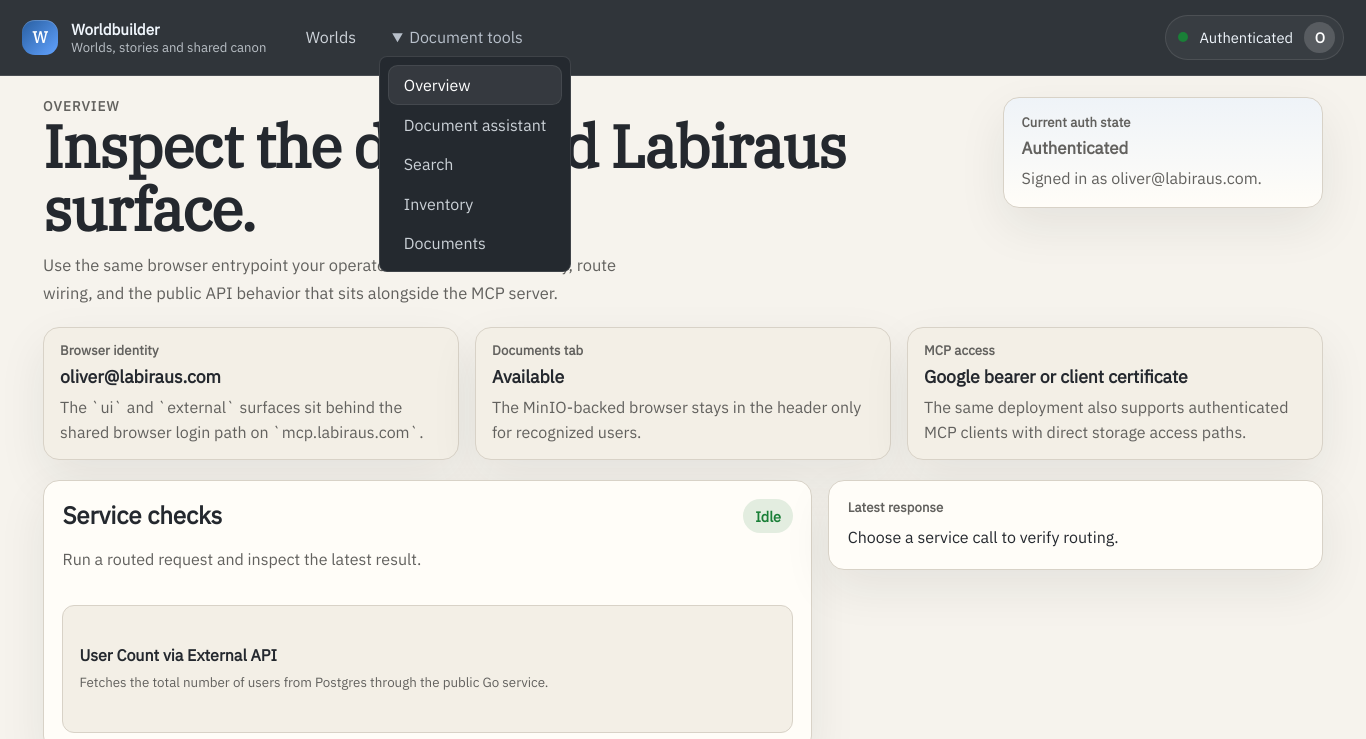
Scenario: App › loads durable lifecycle history for a search result
Click the button "Search".
click(475, 164)  # box [388, 144, 562, 184]
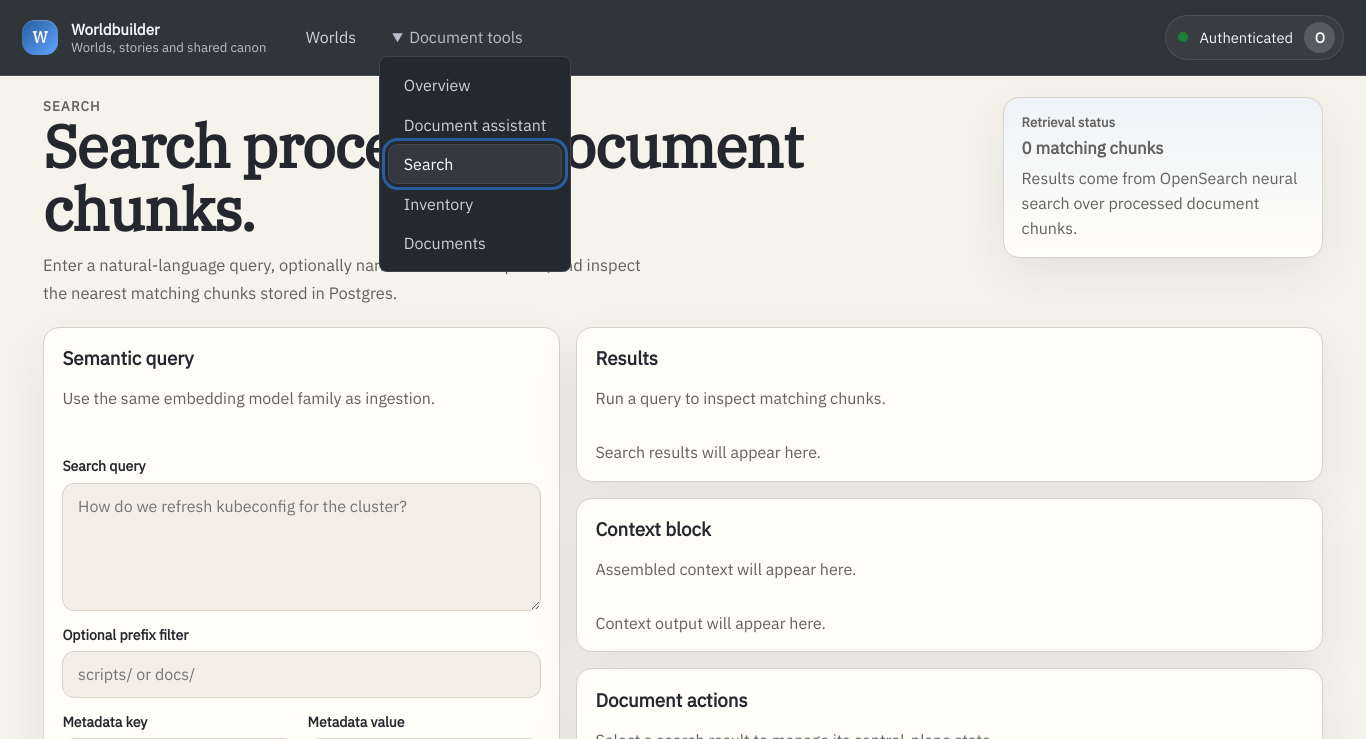
Type "processing status" into the text box labelled "Search query".
click(302, 547); type("processing status")  # box [62, 483, 541, 611]
(page scrolled)
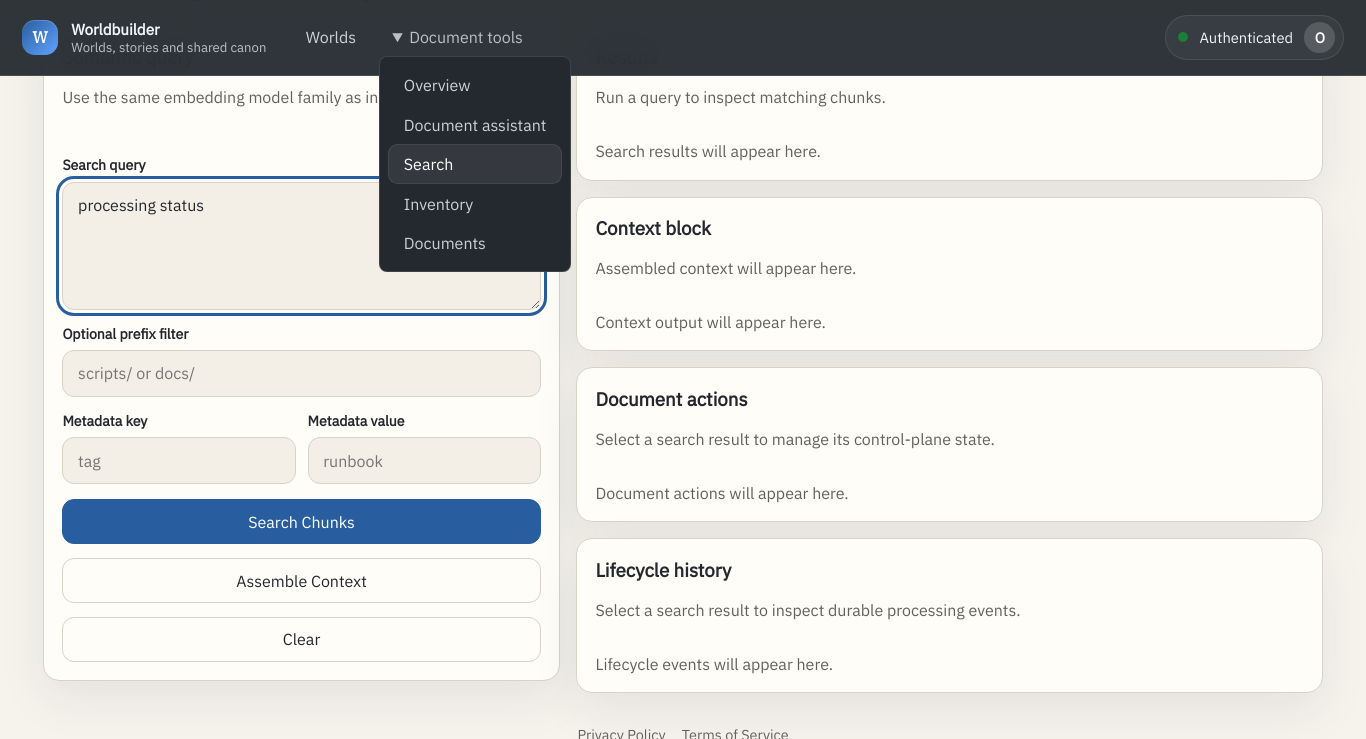
Click the button "Search Chunks".
click(302, 522)  # box [62, 499, 541, 544]
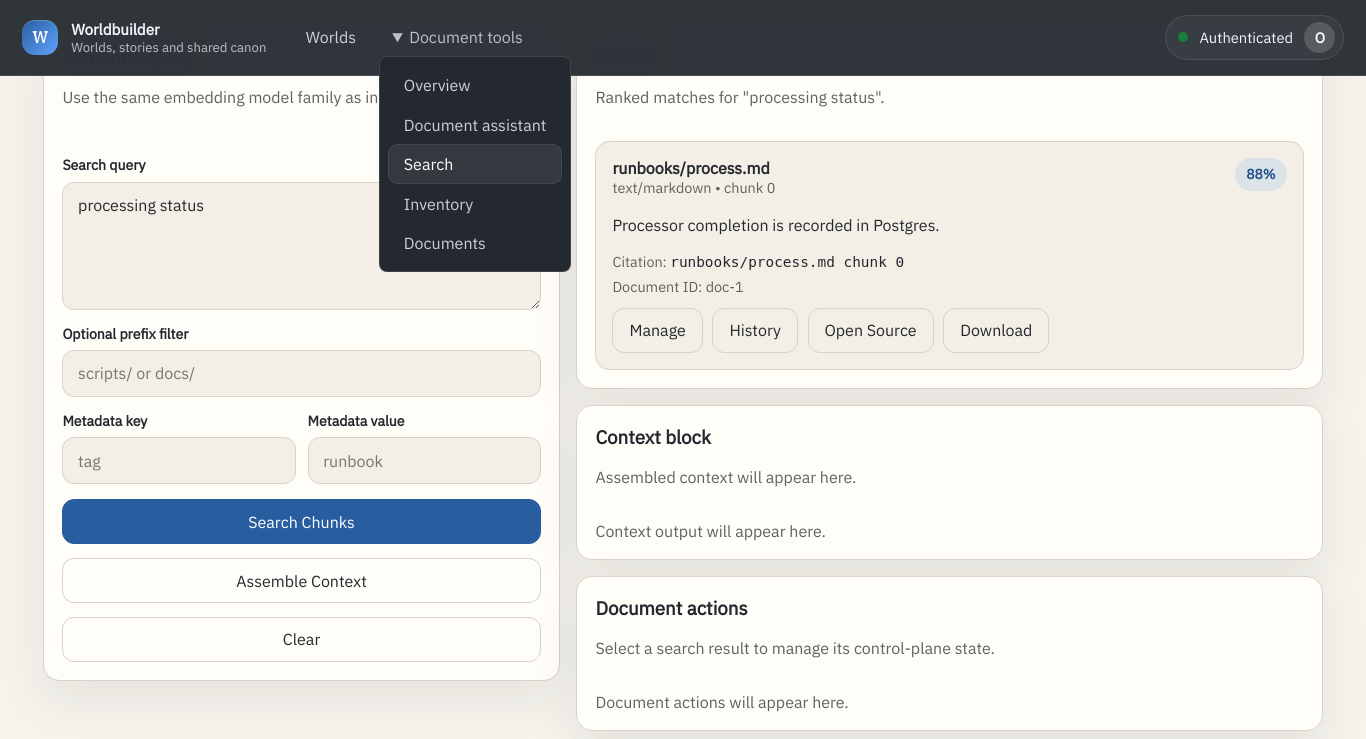
Check: the text "runbooks/process.md" is shown, box [612, 158, 775, 178]
Click the button with aria-label "history for runbooks/process.md".
click(755, 330)  # box [712, 308, 798, 353]
(page scrolled)
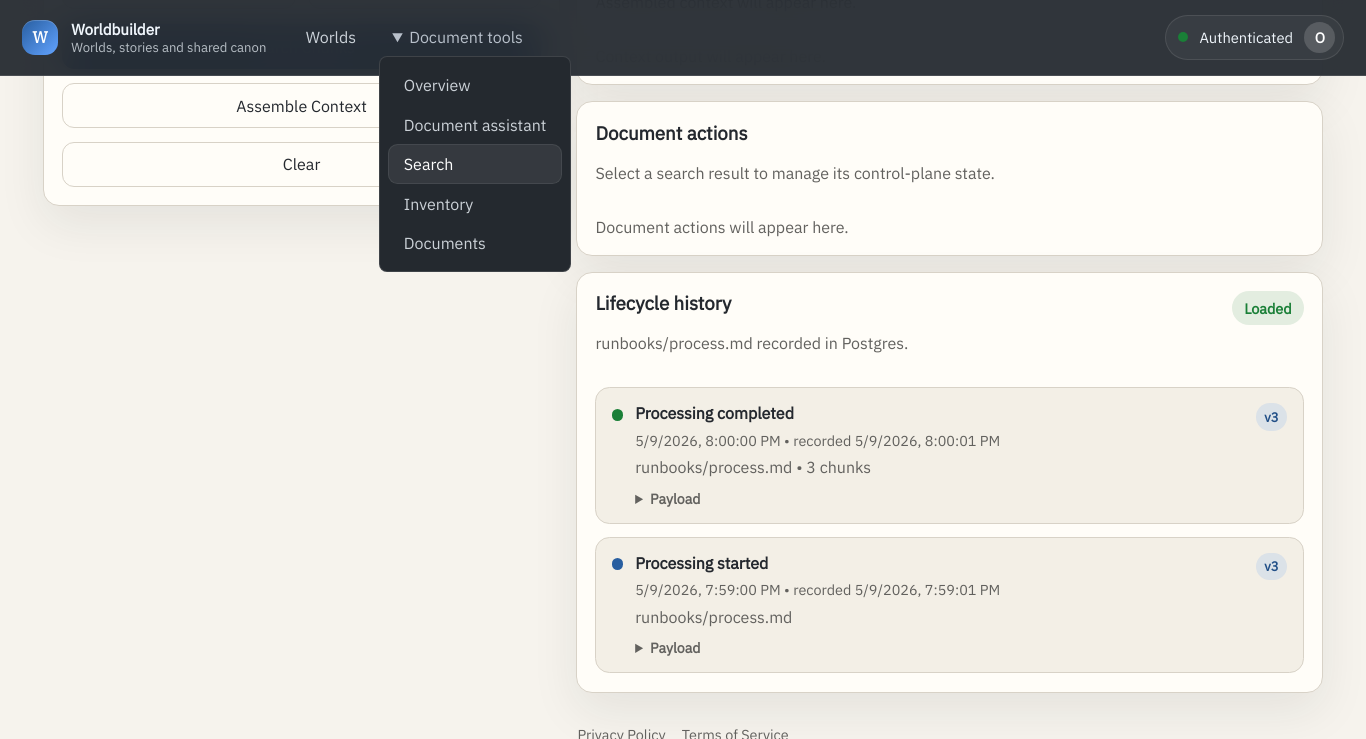
Check: the text "Processing completed" is shown, box [635, 404, 794, 424]
Check: the text "Processing started" is shown, box [635, 553, 768, 573]
Check: the text "v3" is shown 2 times, box [1256, 404, 1287, 431]; [1256, 553, 1287, 580]
